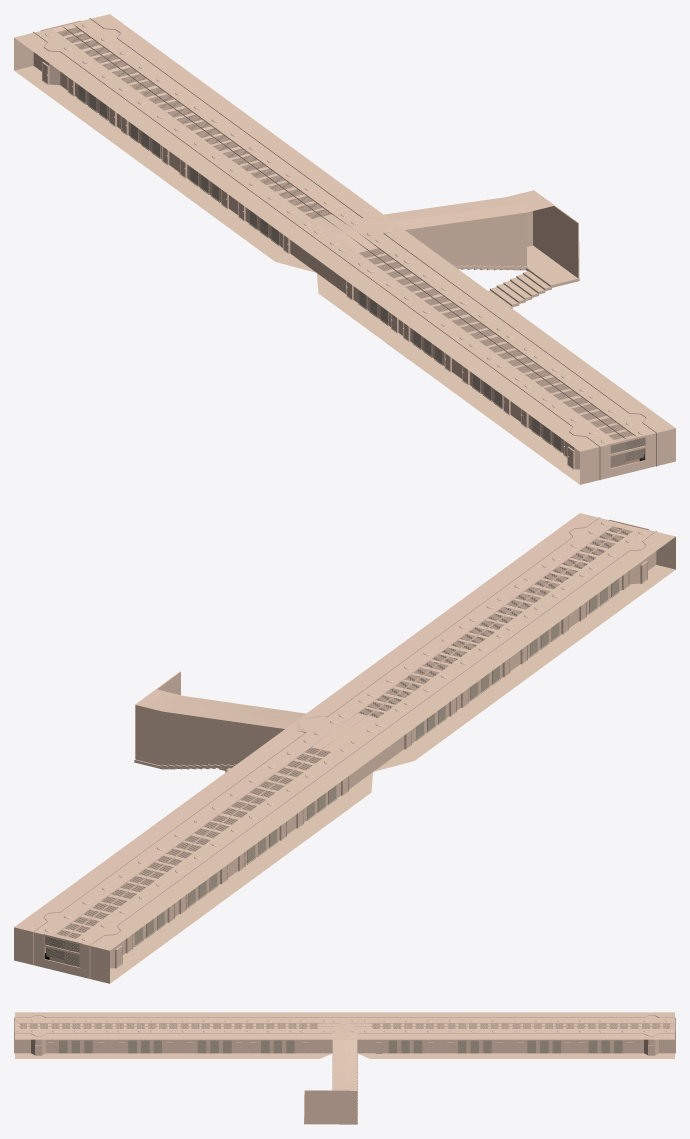
The model's file is hallway.fbx.
3 views of the same model, one above another, from view 1: azimuth 30°, elevation 25°; view 2: azimuth 150°, elevation 25°; view 3: azimuth 270°, elevation 25° (orthographic). The views are drawn at different scales.
Parts seen in each view (by area): view 1: wall/floor, airway, Cube.558, stairs, lights; view 2: wall/floor, Cube.558, airway, lights; view 3: wall/floor, Cube.558, airway, lights, stairs.
Boxes of the visible parts, bbox=[...] form: wall/floor: bbox=[14, 14, 675, 484]; airway: bbox=[359, 248, 632, 439]; Cube.558: bbox=[57, 27, 331, 218]; stairs: bbox=[454, 245, 579, 308]; lights: bbox=[45, 23, 646, 443]; wall/floor: bbox=[14, 513, 675, 983]; Cube.558: bbox=[57, 747, 330, 938]; airway: bbox=[358, 526, 632, 717]; lights: bbox=[45, 521, 646, 941]; wall/floor: bbox=[14, 1012, 675, 1124]; Cube.558: bbox=[372, 1023, 669, 1028]; airway: bbox=[20, 1023, 317, 1028]; lights: bbox=[17, 1019, 670, 1032]; stairs: bbox=[304, 1053, 357, 1124].
Size of the model in its own units: 26538 by 11032 by 105341.
